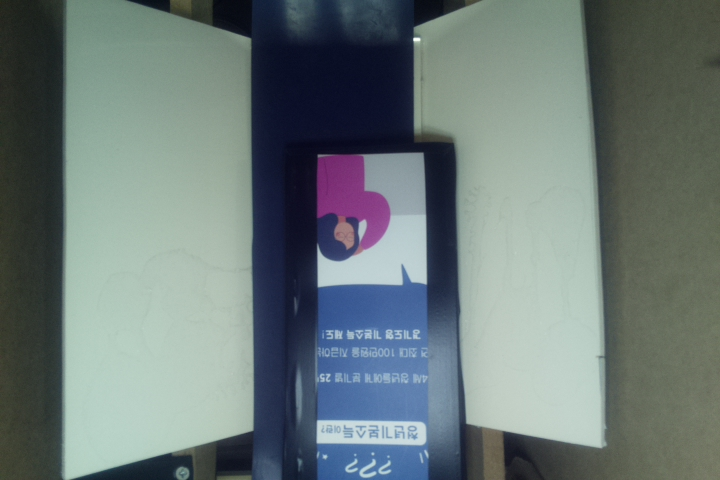book: (286, 138, 463, 480)
